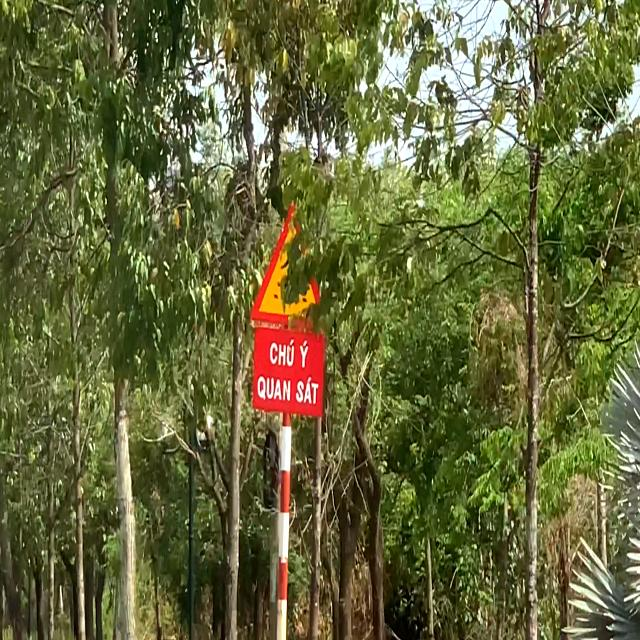W.224: (252, 200, 328, 326)
